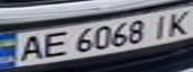0: (90, 22, 115, 52)
6: (109, 19, 133, 48), (72, 25, 96, 54)
8: (127, 16, 151, 44)
A: (12, 33, 48, 64)
E: (36, 29, 72, 60)
I: (145, 11, 175, 39)
K: (160, 7, 193, 36)
